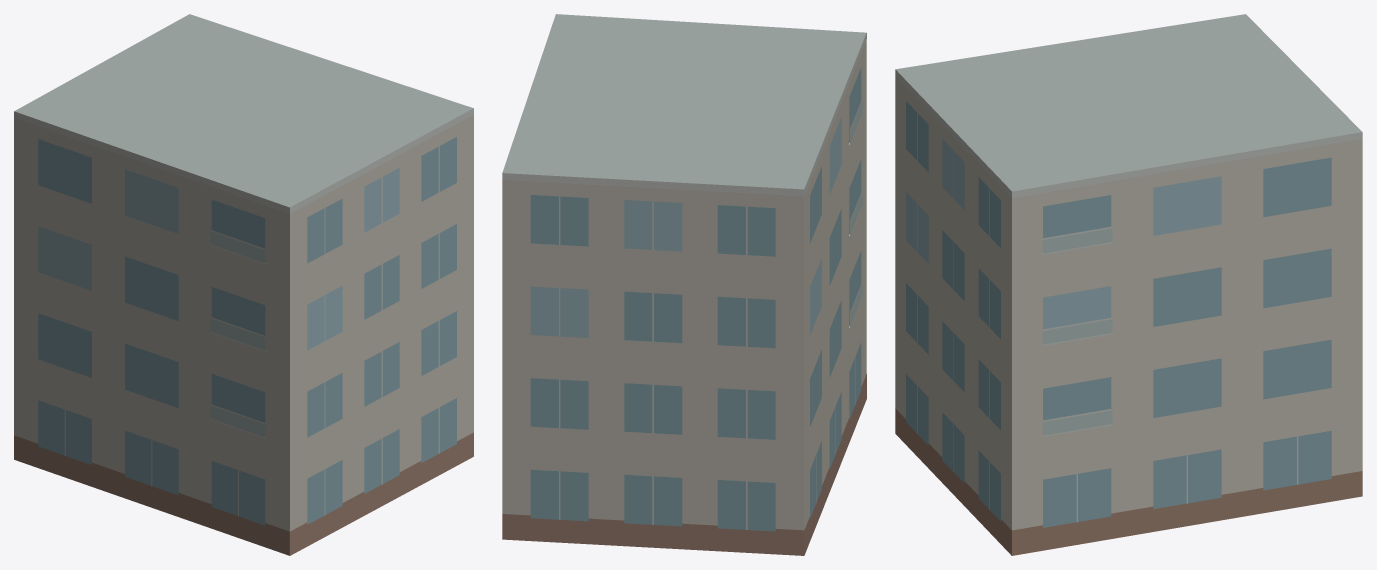
Rendered from survey-upis-32845479.glb.
The picture shows the model from 3 angles, left to right: view 1: azimuth 30°, elevation 25°; view 2: azimuth 150°, elevation 25°; view 3: azimuth 270°, elevation 25°; orthographic projection. The views are drawn at different scales.
Parts seen in each view (by area): view 1: survey-upis-32845479.tmp; view 2: survey-upis-32845479.tmp; view 3: survey-upis-32845479.tmp.
Boxes of the visible parts, x1,y1,x2,y2 form: survey-upis-32845479.tmp: [14, 14, 473, 555]; survey-upis-32845479.tmp: [502, 14, 866, 555]; survey-upis-32845479.tmp: [895, 14, 1362, 555].
Bounding box in the file's own units: 13.75 × 13.15 × 15.29.
